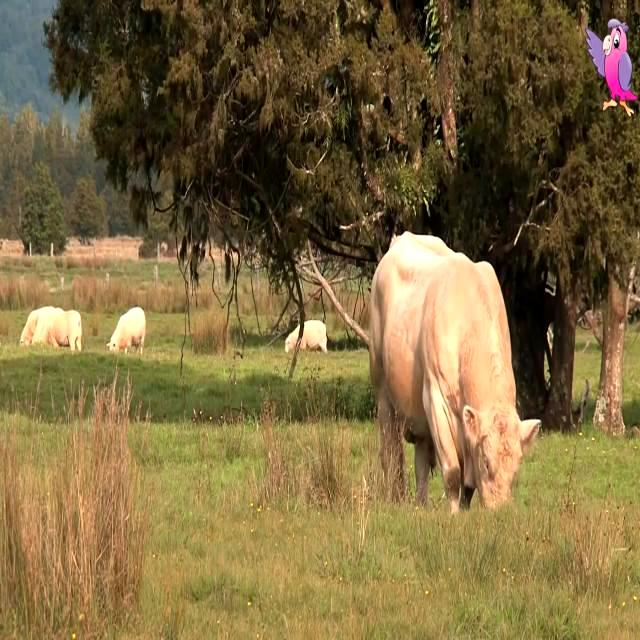COW: (370, 232, 540, 512)
